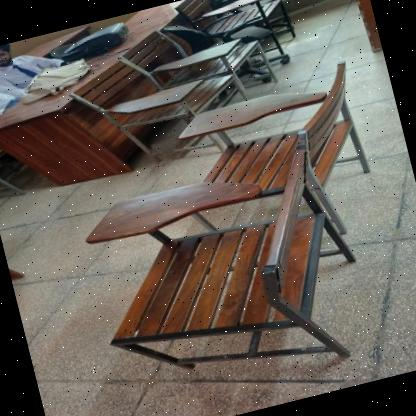bag: (15, 53, 98, 108), (55, 17, 136, 68)
chair: (48, 120, 386, 416), (166, 54, 404, 244), (61, 24, 269, 160)
person: (0, 33, 60, 102)
